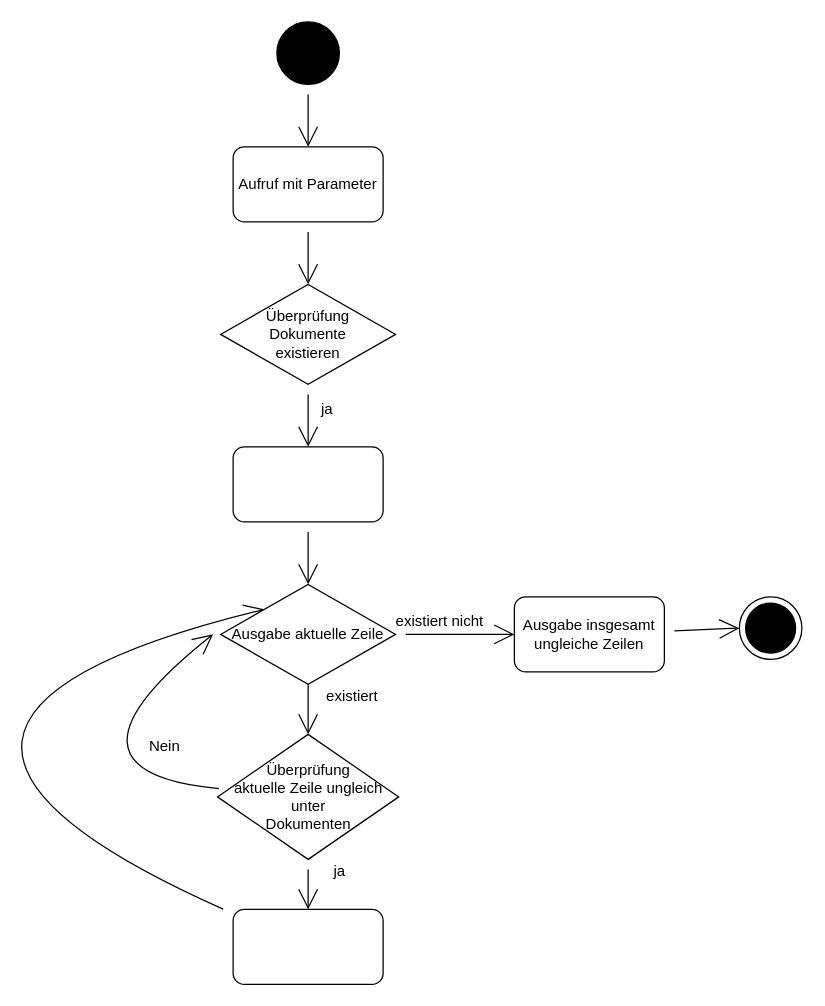
Image size: 825x1006. Some labels were removed from this diagram. The centre of each missing label's shape, as x and y in pixels:
"Ausgabe Zeile ungleich" goes at [307,946].
"Definition grosses / kleines Dokument" goes at [307,484].
